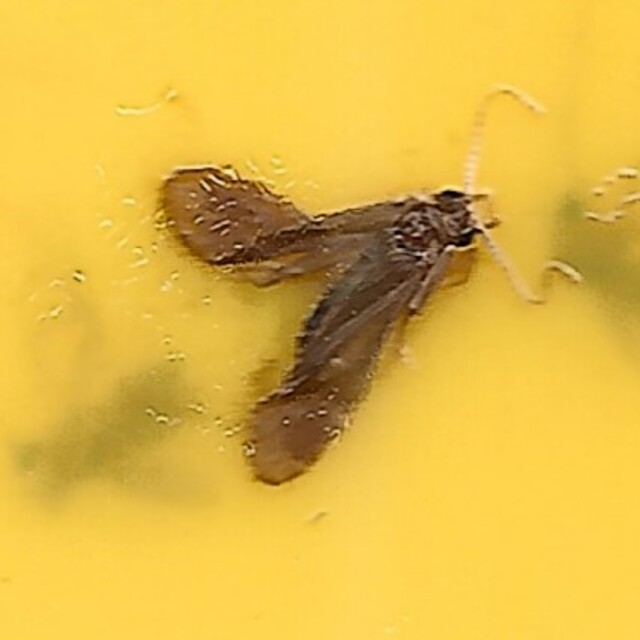Trichoptera: (150, 158, 490, 482)
